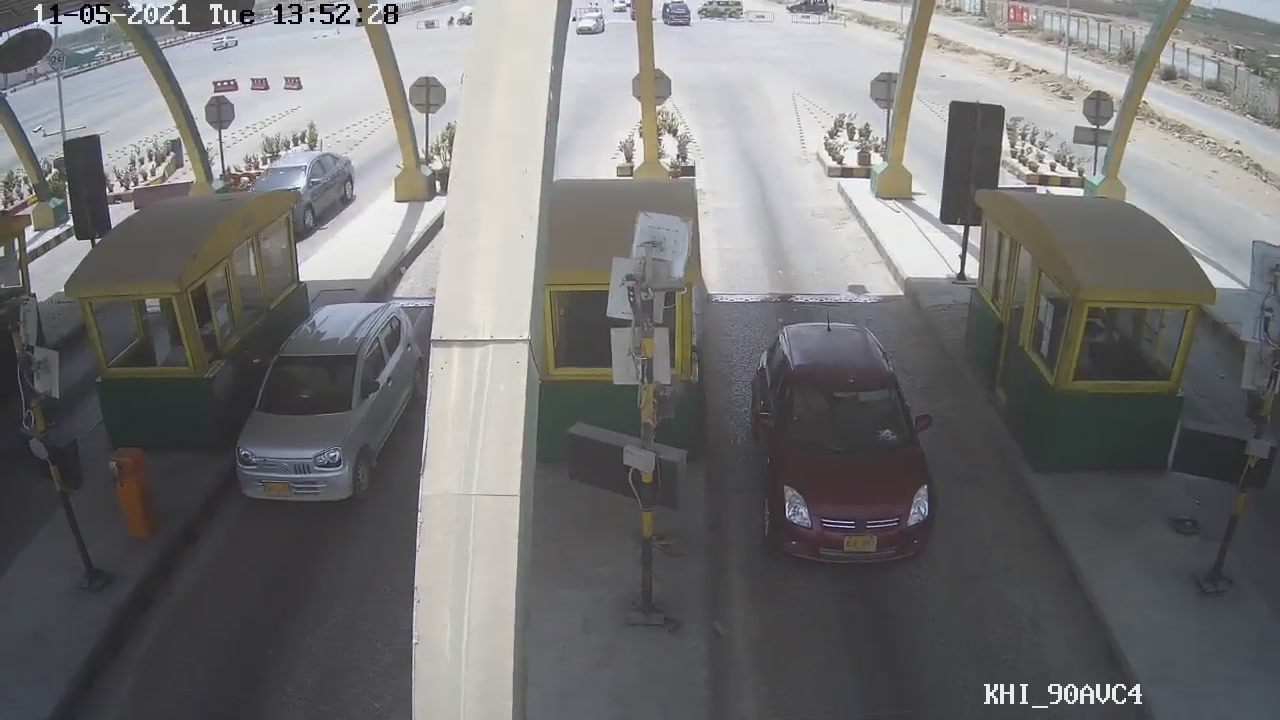F1: (746, 308, 944, 579)
